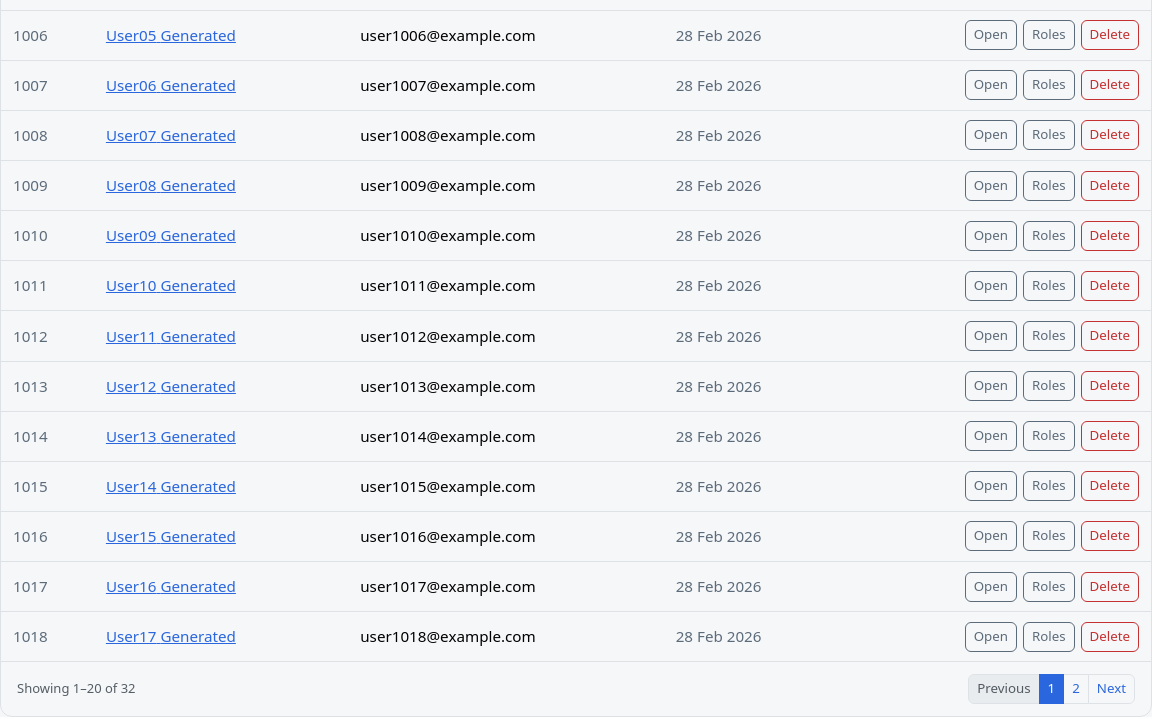
Test: List screens › moves to the next page and back
(page scrolled)
Check: the text "Showing 1–20 of 32" is shown, box [17, 680, 136, 699]
Click the button "Next" at (1111, 689), box [1088, 674, 1135, 704]
(page scrolled)
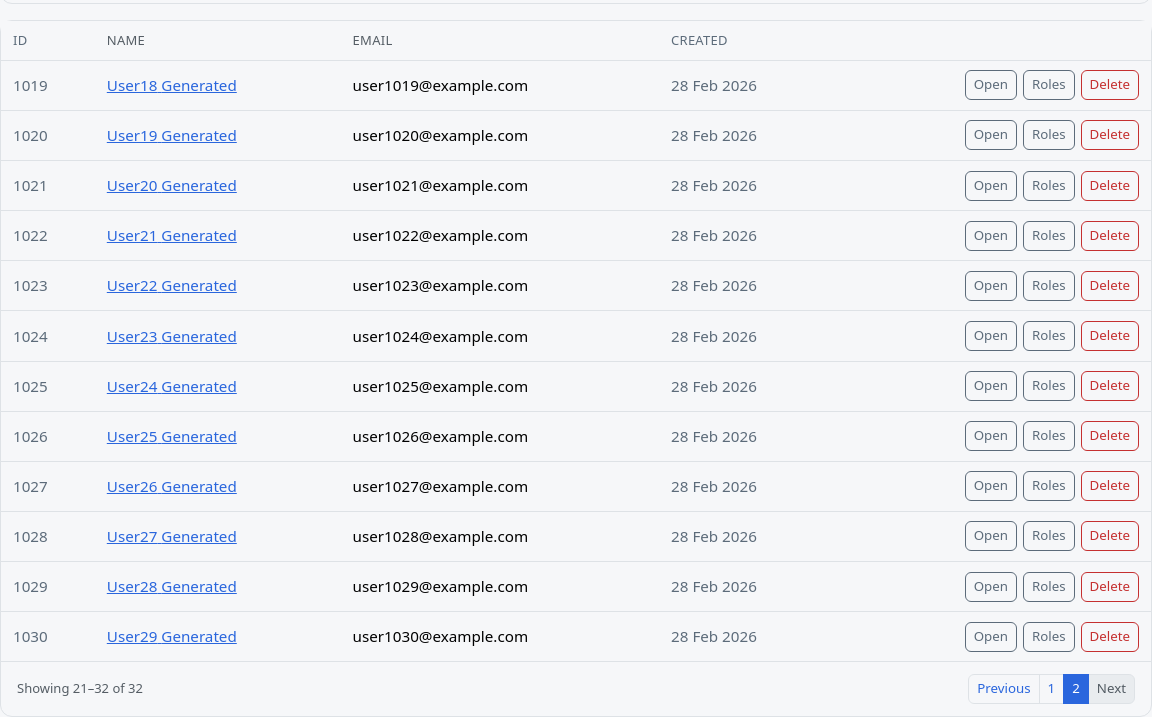
Check: the text "Showing 21–32 of 32" is shown, box [17, 680, 143, 699]
Click the button "Previous" at (1004, 689), box [968, 674, 1040, 704]
(page scrolled)
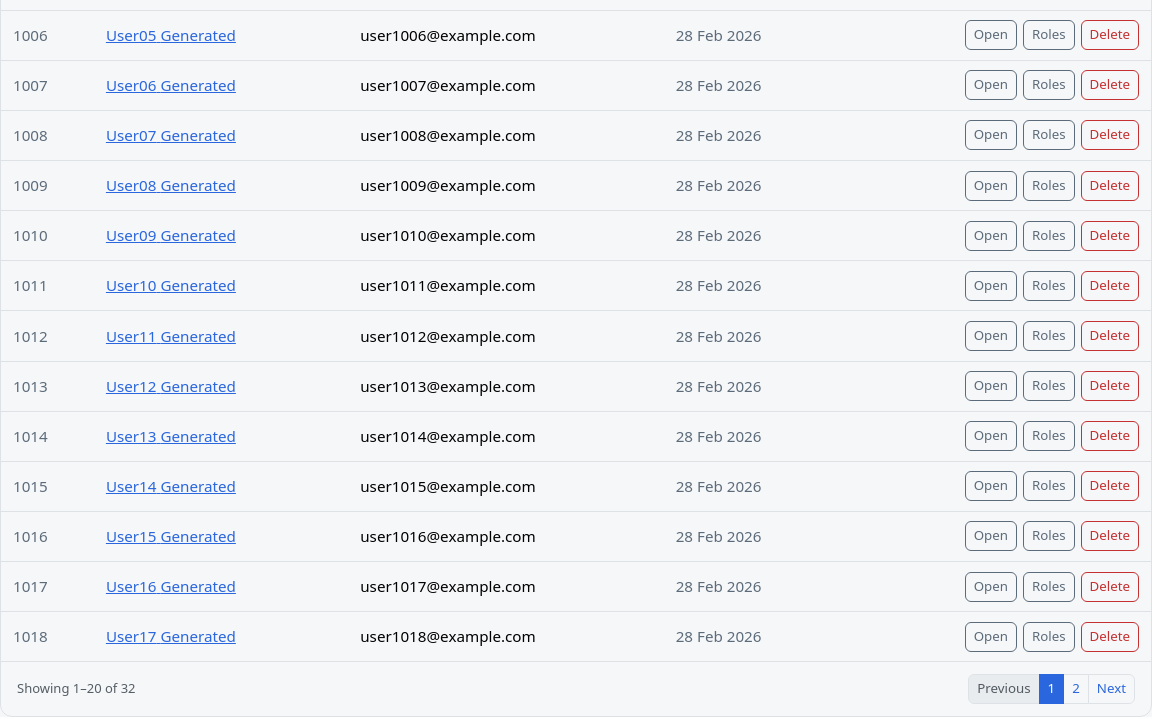
Check: the text "Showing 1–20 of 32" is shown, box [17, 680, 136, 699]
